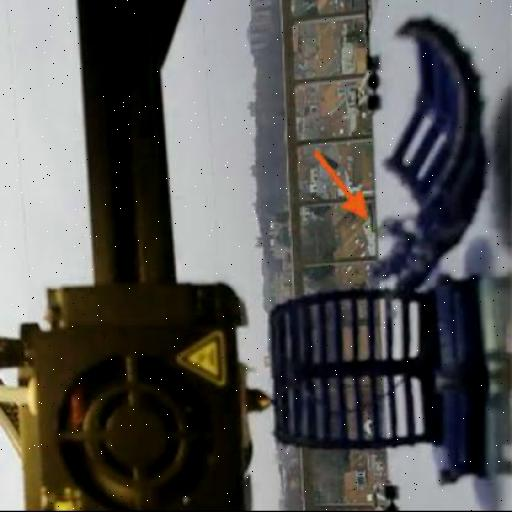spaghetti: (363, 216, 437, 300)
